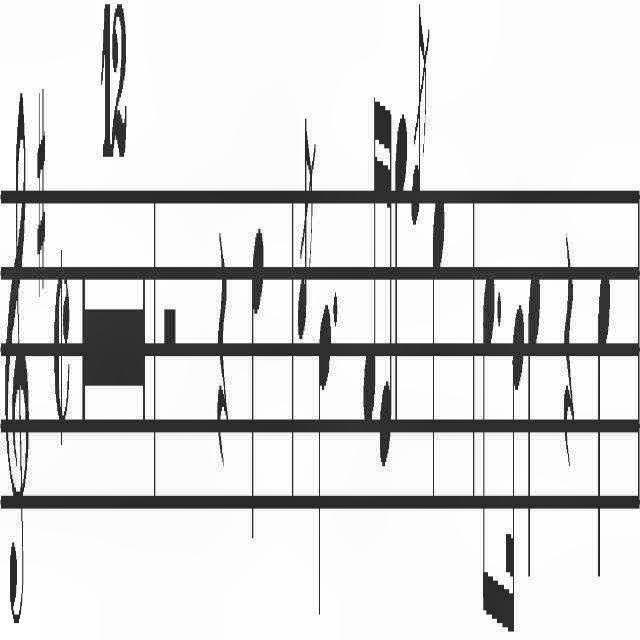Bass-clef: (1, 64, 36, 640)
Diez: (34, 77, 50, 296)
Eighth-note: (478, 232, 496, 640)
Quarter-note: (587, 249, 621, 585), (246, 175, 266, 575), (522, 266, 544, 588), (432, 144, 448, 564), (392, 58, 408, 442), (313, 308, 331, 640)
Quarter-rest: (205, 187, 233, 508), (559, 194, 581, 506)
Sixteenth-note: (356, 27, 380, 457), (378, 60, 394, 506), (504, 288, 524, 640)
